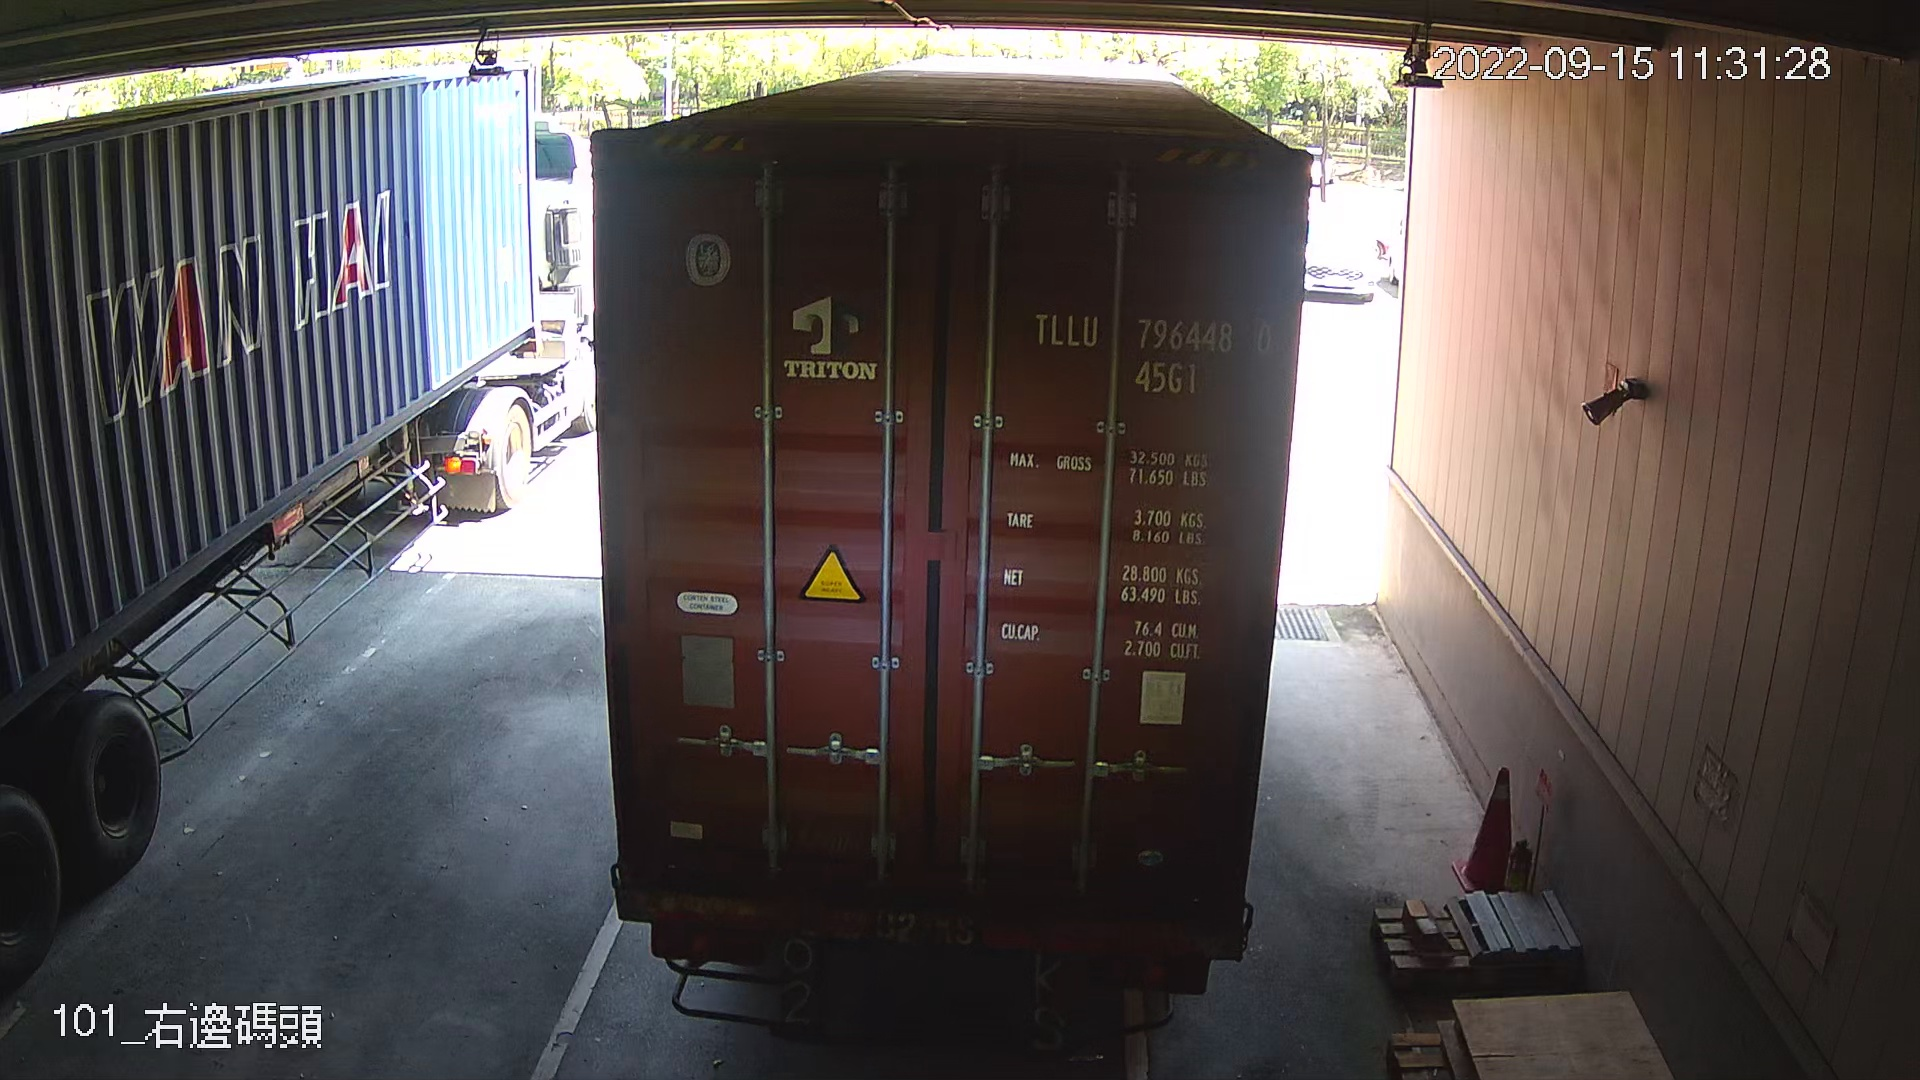container: (1019, 301, 1280, 404)
